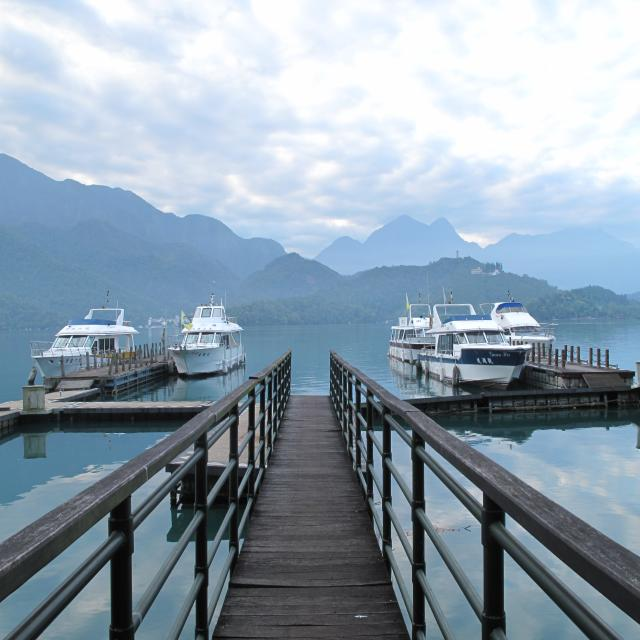houseboat: (29, 285, 152, 380), (144, 292, 242, 392)
